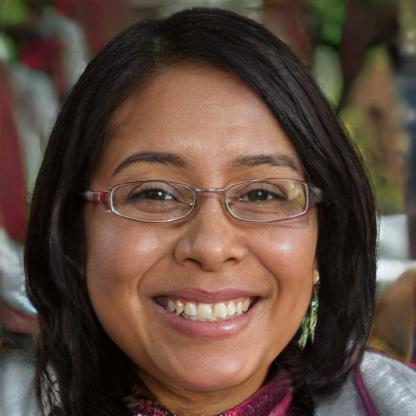glasses: (84, 173, 312, 228)
